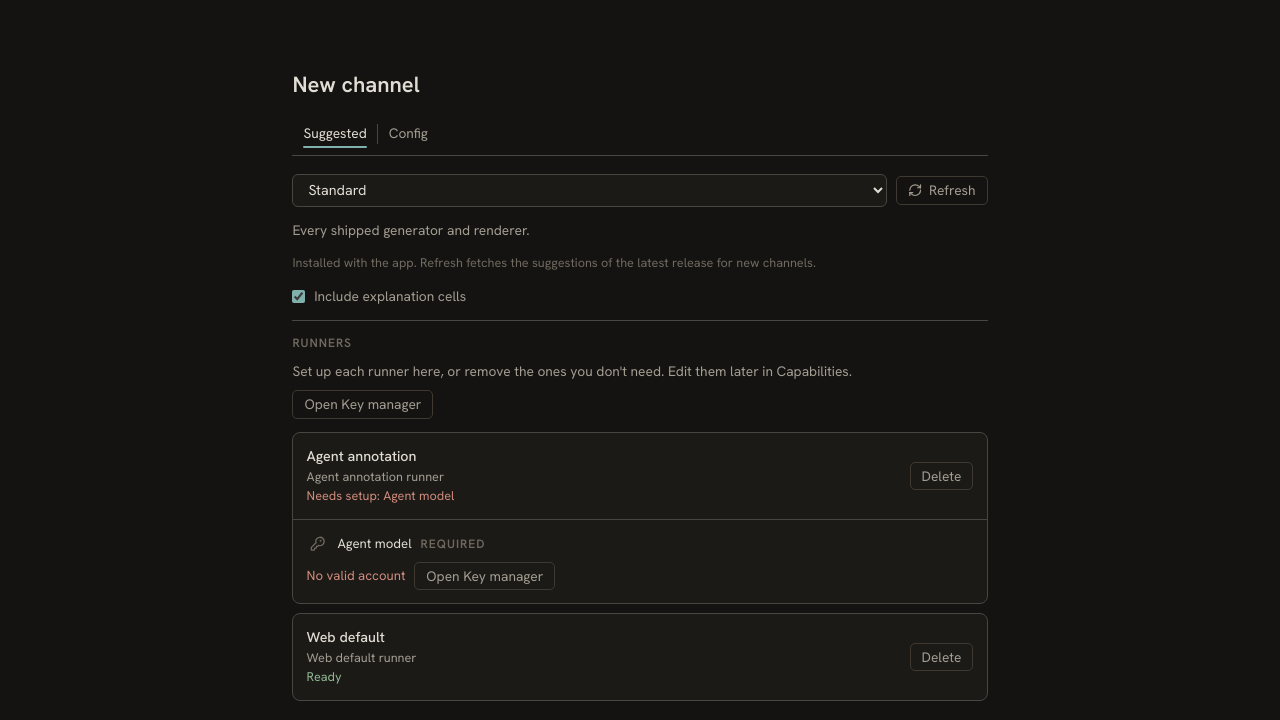
Scenario: New channel: Suggested › picks among several suggestions, resetting the drafts
The width and height of the screenshot is (1280, 720).
Expected: the text "Agent annotation" is shown, [307,447,416,465]
Step 1. Select "Minimal" in the dropdown named "Suggestion" → (590, 190), box [292,174,887,207]
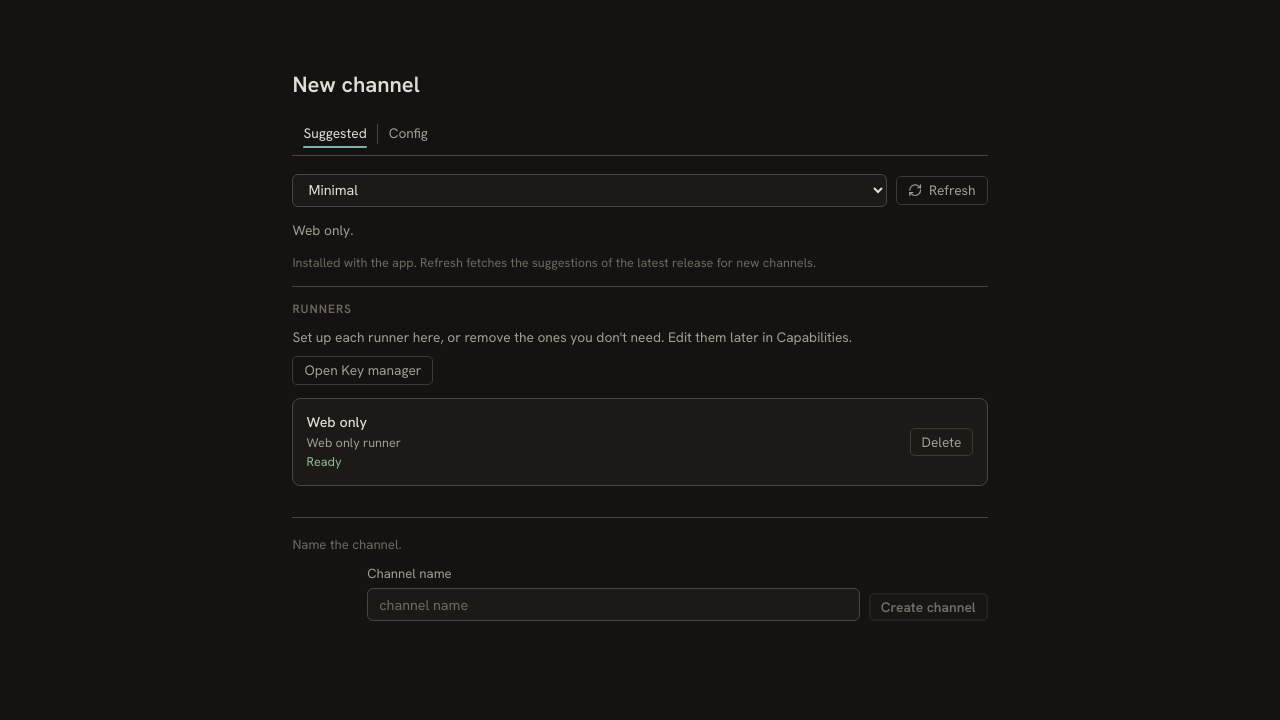
Expected: the text "Web only" is shown, [307,413,367,431]
Expected: the text "Agent annotation" is gone
Expected: the label labelled "Include explanation cells" is gone
